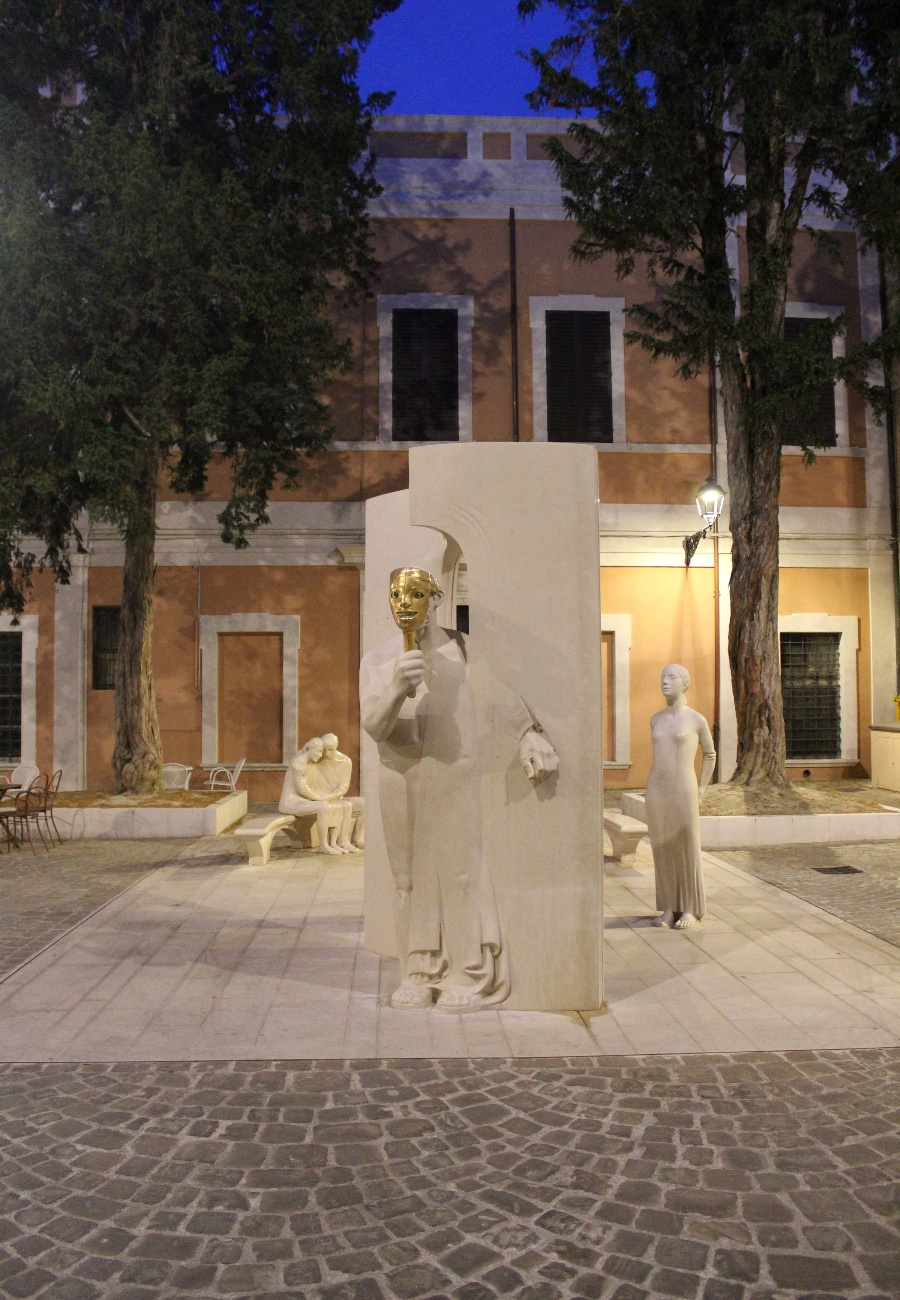Scultura della Memoria: (361, 568, 561, 1013)
